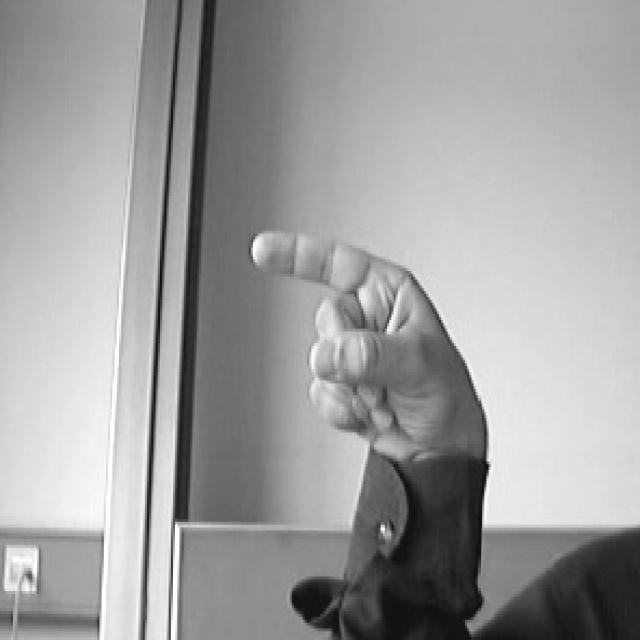P: (242, 214, 500, 469)
